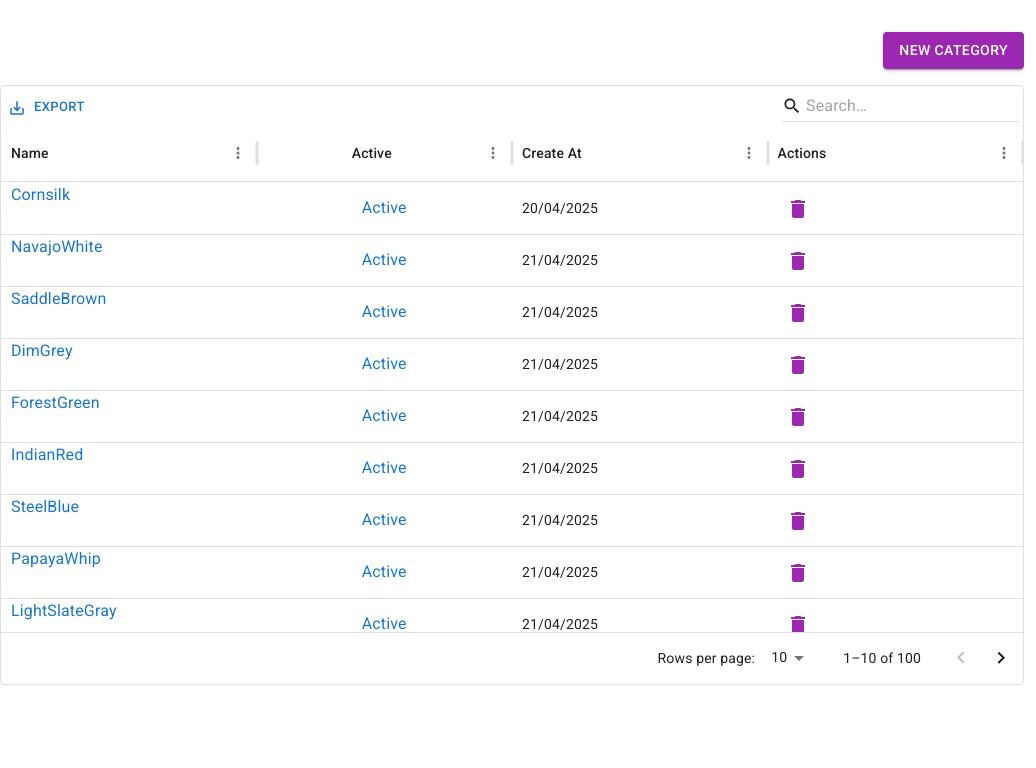
Test: Test ListCategory page › should handle on page change
Expected: the text "Cornsilk" is shown, x1=11 y1=184 x2=70 y2=204
Click the button with test id "KeyboardArrowRightIcon".
click(1001, 658)  # box x1=981 y1=638 x2=1021 y2=678
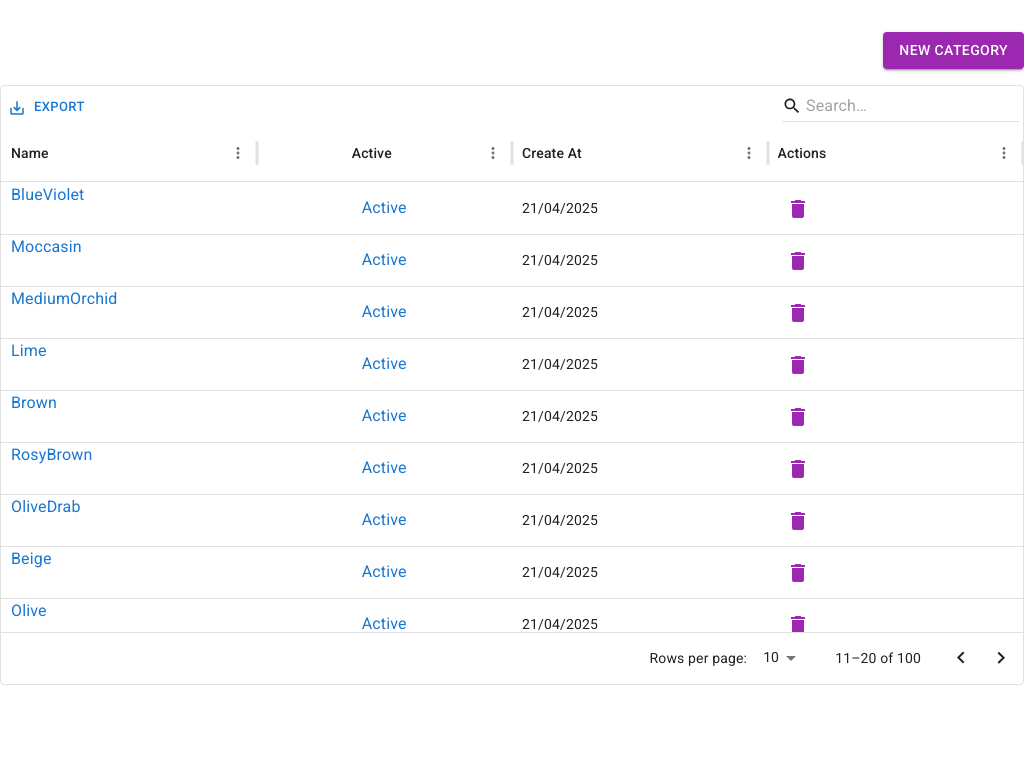
Now the text "BlueViolet" is shown, box x1=11 y1=184 x2=84 y2=204
